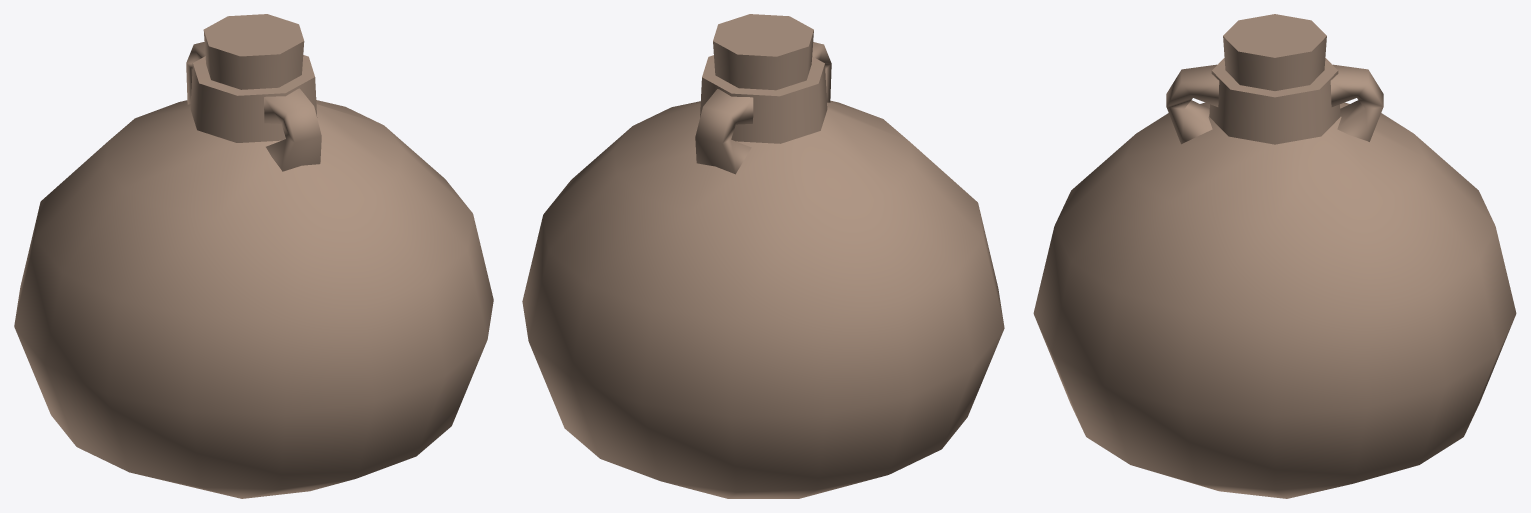
Rendered from Prop_Sm_SmallContainer_1_A.fbx.
3 renders of one model, left to right at view 1: azimuth 30°, elevation 25°; view 2: azimuth 150°, elevation 25°; view 3: azimuth 270°, elevation 25°, orthographic.
Parts seen in each view (by area): view 1: polySurface49; view 2: polySurface49; view 3: polySurface49.
Part boxes in pixels (x1,y1,x2,y2): polySurface49: (14,14,493,498); polySurface49: (522,14,1004,498); polySurface49: (1033,14,1516,498).
Size of the model in its own units: 0.3906 by 0.3788 by 0.3906.
